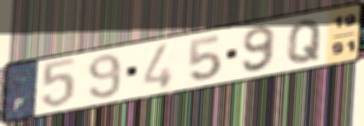4: (141, 40, 176, 91)
5: (39, 55, 77, 111), (188, 32, 224, 83)
9: (85, 52, 124, 101), (241, 24, 279, 74)
Q: (285, 18, 324, 65)
